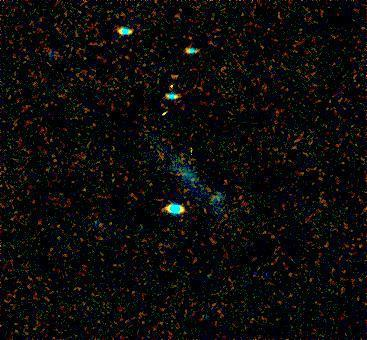star: (159, 61, 189, 91)
